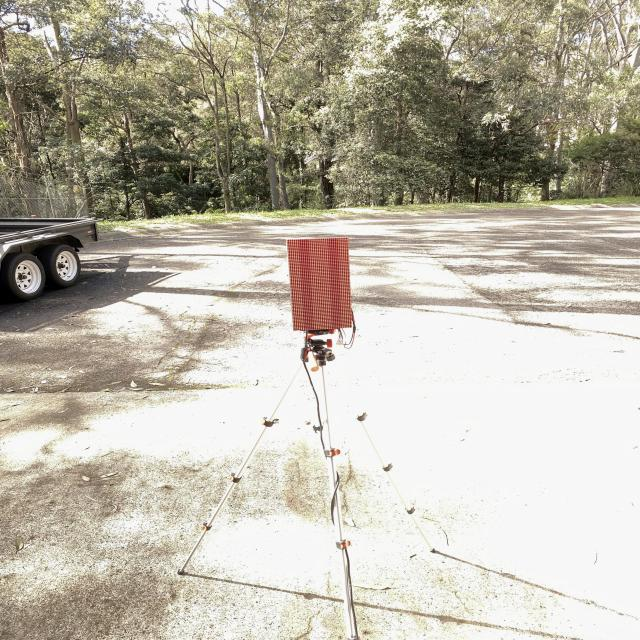matrix: (280, 226, 352, 336)
